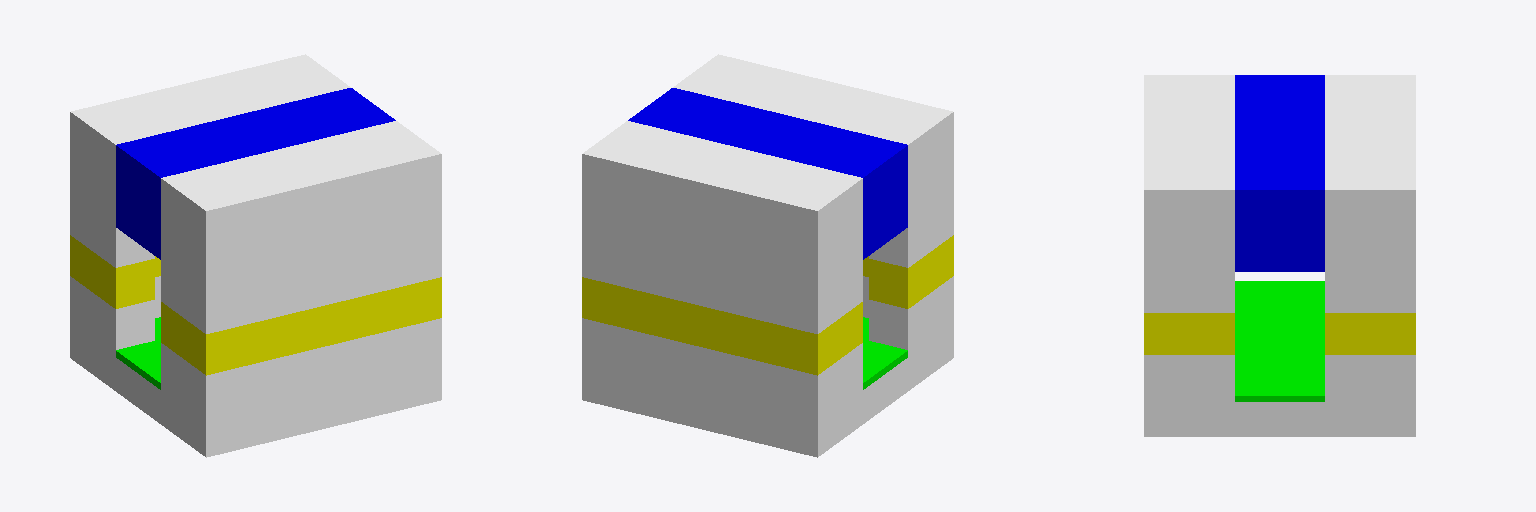
3 views of the same model, side by side, from view 1: azimuth 30°, elevation 25°; view 2: azimuth 150°, elevation 25°; view 3: azimuth 270°, elevation 25° (orthographic).
Visible parts, largest first — view 1: object 1; view 2: object 1; view 3: object 1.
Part boxes in pixels (left/top/right/bottom): object 1: left=70, top=54, right=441, bottom=457; object 1: left=582, top=54, right=953, bottom=457; object 1: left=1144, top=75, right=1415, bottom=436.
Size of the model in its own units: 3.6 by 3.6 by 3.6.
Materials: 1 (1 with a texture image).